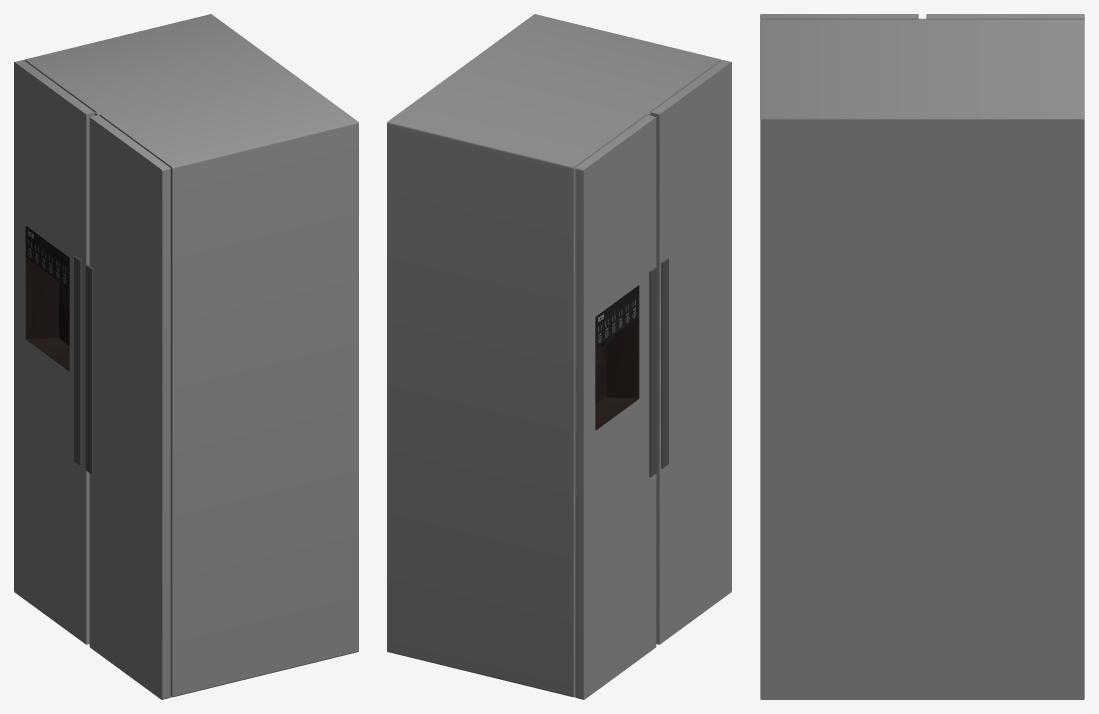
3 views of the same model, side by side, from view 1: azimuth 30°, elevation 25°; view 2: azimuth 150°, elevation 25°; view 3: azimuth 270°, elevation 25° (orthographic). The views are drawn at different scales.
Visible parts, largest first — view 1: Modern; view 2: Modern; view 3: Modern.
Part boxes in pixels (x1,y1,x2,y2): Modern: [14, 14, 358, 699]; Modern: [387, 14, 731, 699]; Modern: [760, 14, 1084, 699].
Bounding box in the file's own units: 0.7676 × 1.94 × 0.9834.
Materials: 4 (3 with a texture image).
